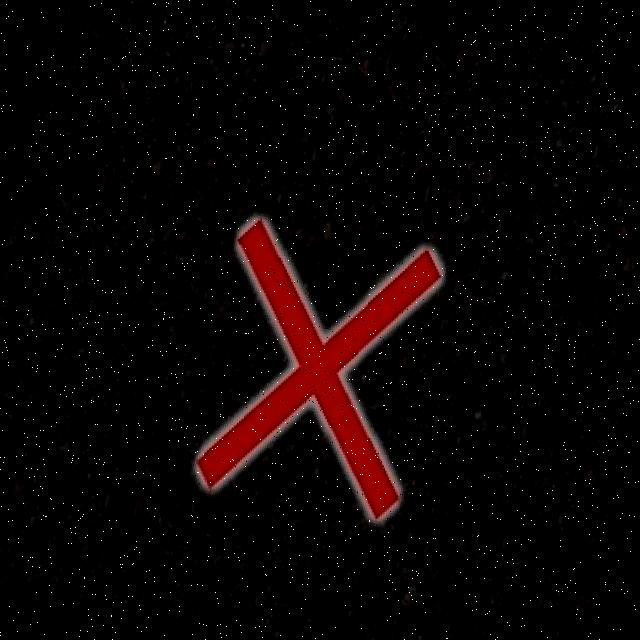x_marker: (192, 214, 444, 520)
